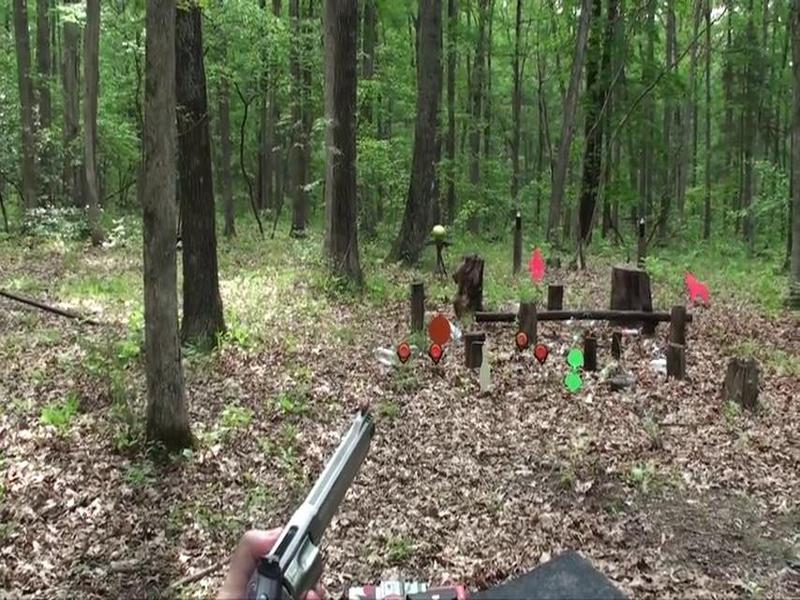Revolver: (227, 380, 382, 600)
